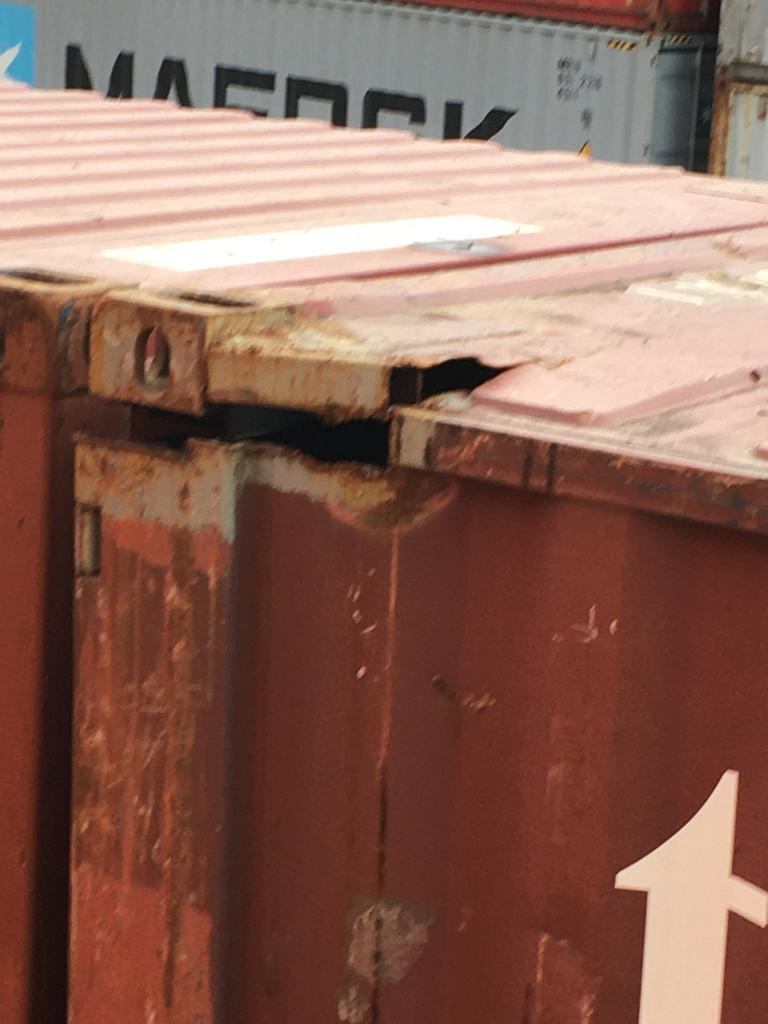bulged: (170, 335, 607, 562)
